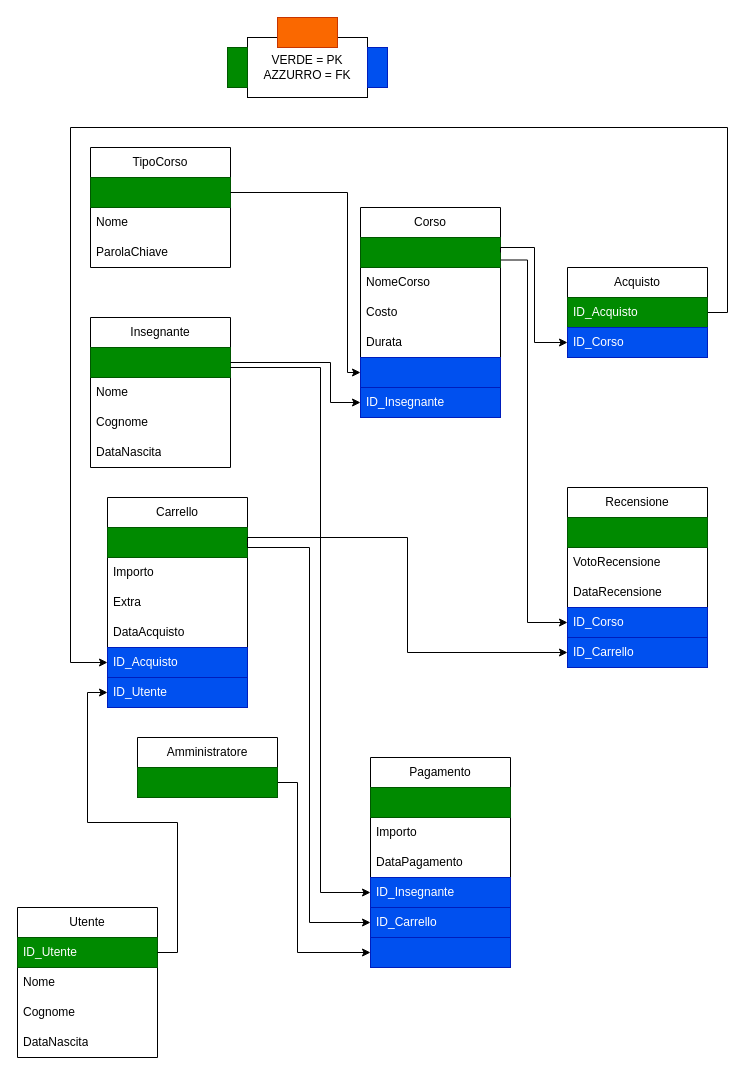
Some shapes in this 753 by 1075 pixel diagram are drawn without their labels. The shapes that lost their labels are listed below. From the top down, each one's box as (x1, y1, x2, y2) in pixels, then its label:
(276, 16, 338, 48): LEGENDA
(90, 176, 230, 208): ID_ TipoCorso
(360, 236, 500, 268): ID_ Corso
(90, 346, 230, 378): ID_ Insegnante
(360, 356, 500, 388): ID_TipoCorso
(106, 526, 248, 558): ID_ Carrello
(566, 516, 708, 548): ID_Recensione
(136, 766, 278, 798): ID_ Amministratore
(370, 786, 510, 818): ID_ Pagamento
(370, 936, 510, 968): ID_Amministratore
